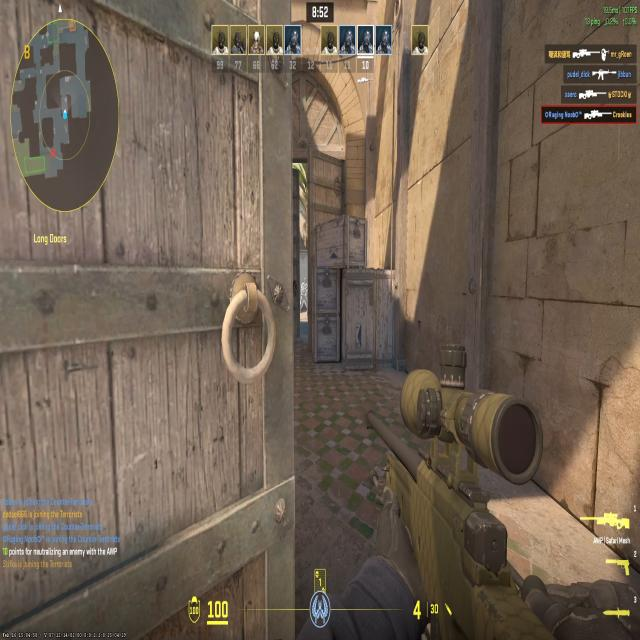player: (301, 278, 308, 320)
